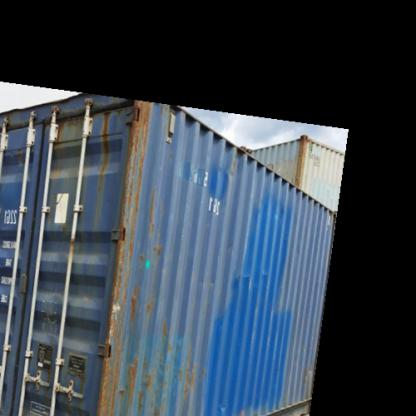Damage: (96, 254, 140, 415), (123, 101, 158, 234), (170, 347, 206, 398), (218, 262, 276, 287), (36, 290, 65, 339), (97, 108, 116, 178), (52, 110, 89, 141), (225, 151, 244, 180)
